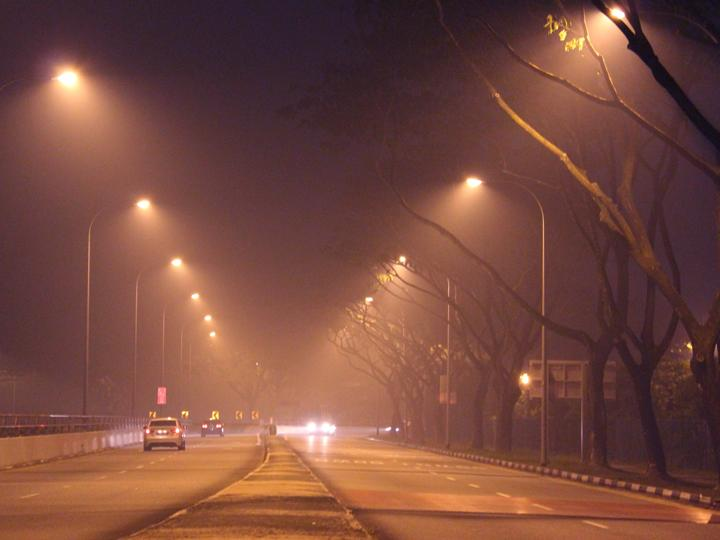car: (143, 416, 187, 452), (383, 419, 427, 438), (303, 415, 337, 436), (199, 418, 225, 437)
